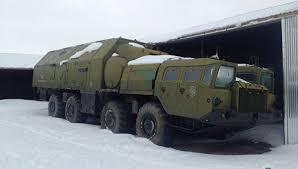rszo: (28, 39, 278, 140)
